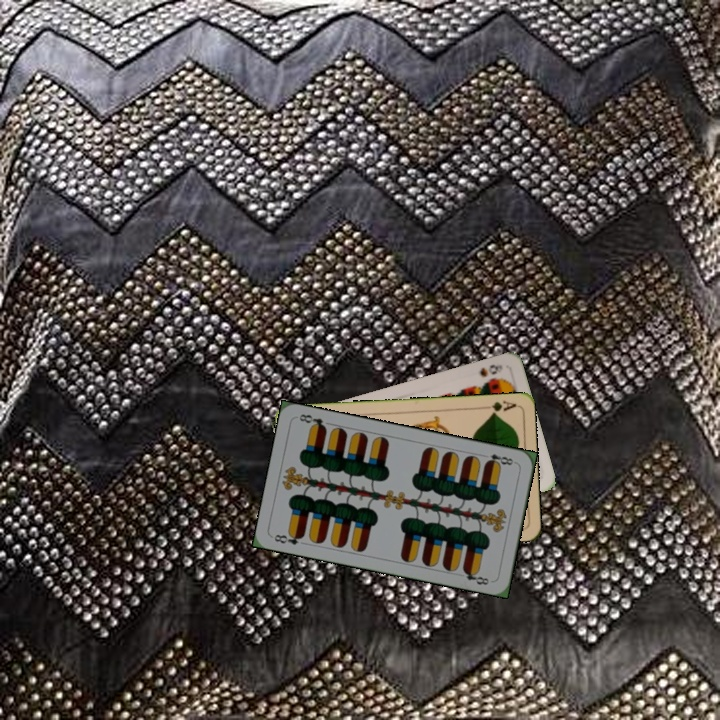E8: (479, 450, 518, 469), (270, 528, 306, 547)
GA: (478, 397, 518, 417)
S8: (476, 360, 505, 380)
